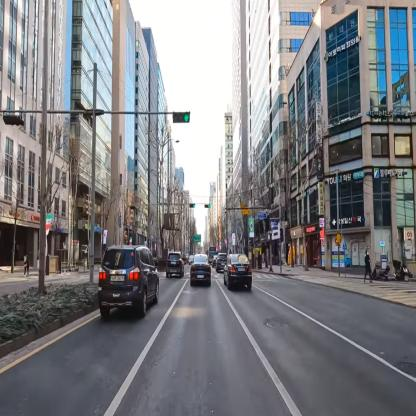Green: (172, 113, 190, 124), (189, 202, 196, 206), (204, 205, 210, 209)
